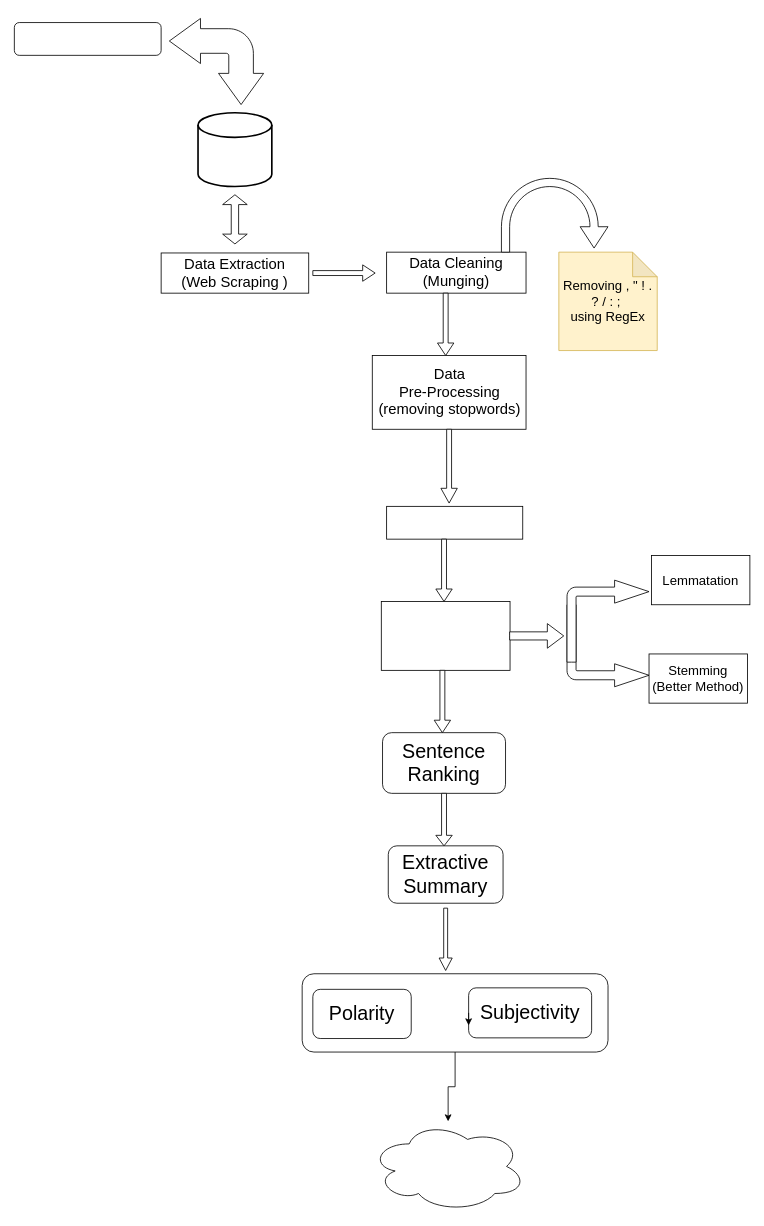
Image size: 764x1226. Some labels were removed from this diagram. The centre of each missing label's shape, as x and y in pixels:
Data Input: point 87,38
Storage: point 234,149
Text-To-Summary: point 447,1166
Tokenisation: point 454,522
Word Embeddings: point 445,635
